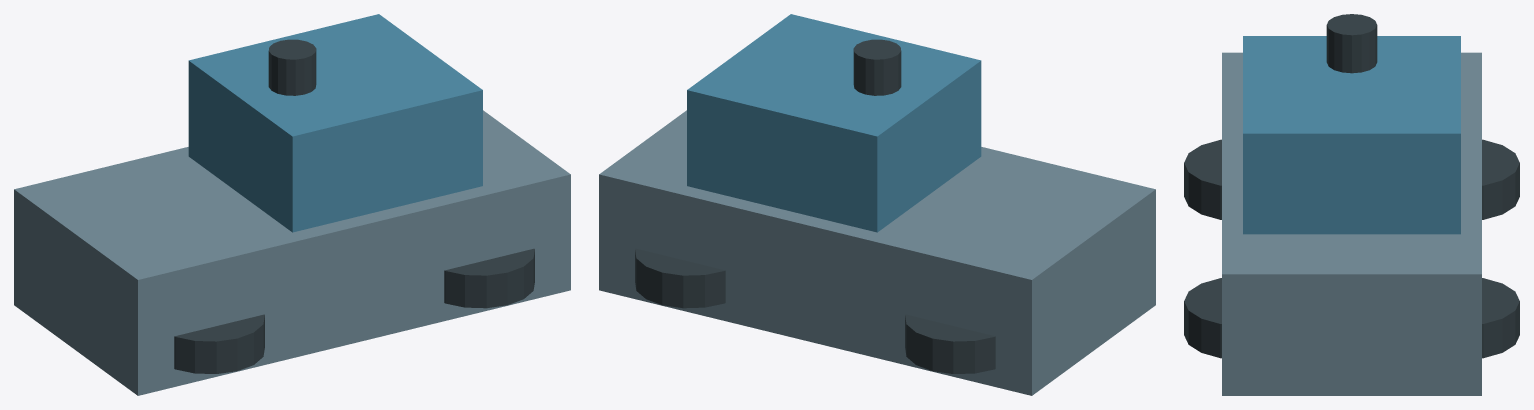
The model's file is motorbike.glb.
3 views of the same model, side by side, from view 1: azimuth 30°, elevation 25°; view 2: azimuth 150°, elevation 25°; view 3: azimuth 270°, elevation 25° (orthographic). The views are drawn at different scales.
Visible parts, largest first — view 1: motorbike, motorbike cabin, Cylinder, Cylinder.002, Cylinder.004; view 2: motorbike, motorbike cabin, Cylinder.001, Cylinder.003, Cylinder.004; view 3: motorbike, motorbike cabin, Cylinder.004, Cylinder, Cylinder.001, Cylinder.002, Cylinder.003.
Part boxes in pixels (x1,y1,x2,y2): motorbike: (14, 110, 570, 395); motorbike cabin: (188, 14, 482, 232); Cylinder: (174, 314, 264, 373); Cylinder.002: (444, 248, 534, 308); Cylinder.004: (268, 39, 316, 95); motorbike: (599, 110, 1155, 395); motorbike cabin: (687, 14, 981, 232); Cylinder.001: (905, 314, 995, 373); Cylinder.003: (635, 248, 725, 308); Cylinder.004: (853, 39, 901, 95); motorbike: (1222, 52, 1481, 395); motorbike cabin: (1243, 36, 1460, 234); Cylinder.004: (1326, 14, 1377, 73); Cylinder: (1184, 139, 1221, 219); Cylinder.001: (1482, 139, 1519, 219); Cylinder.002: (1184, 278, 1221, 358); Cylinder.003: (1482, 278, 1519, 358).
Size of the model in its own units: 2.5 by 1.4 by 1.6.
